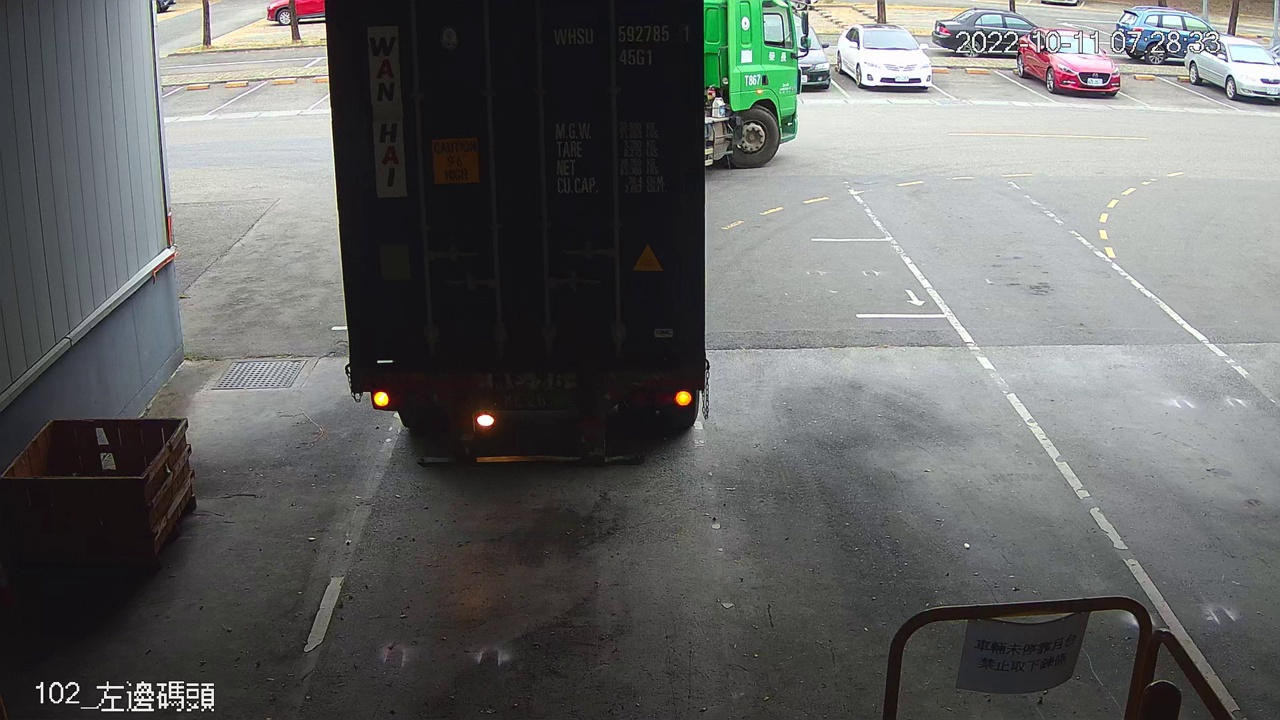container: (545, 19, 694, 71)
